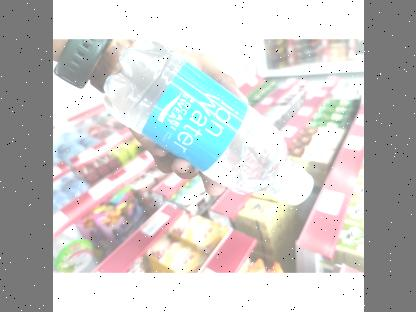Plastic Bottle: (90, 41, 318, 215)
